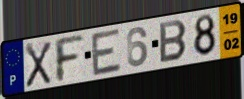6: (125, 26, 150, 68)
8: (191, 13, 218, 59)
B: (158, 18, 189, 65)
E: (90, 26, 123, 79)
F: (52, 34, 86, 84)
X: (24, 40, 53, 89)
